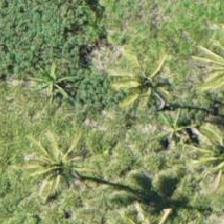coconut_tree: (14, 127, 104, 217), (98, 30, 188, 120)
